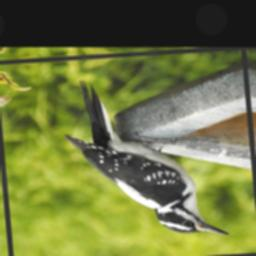Woodpecker: (60, 71, 231, 249)
